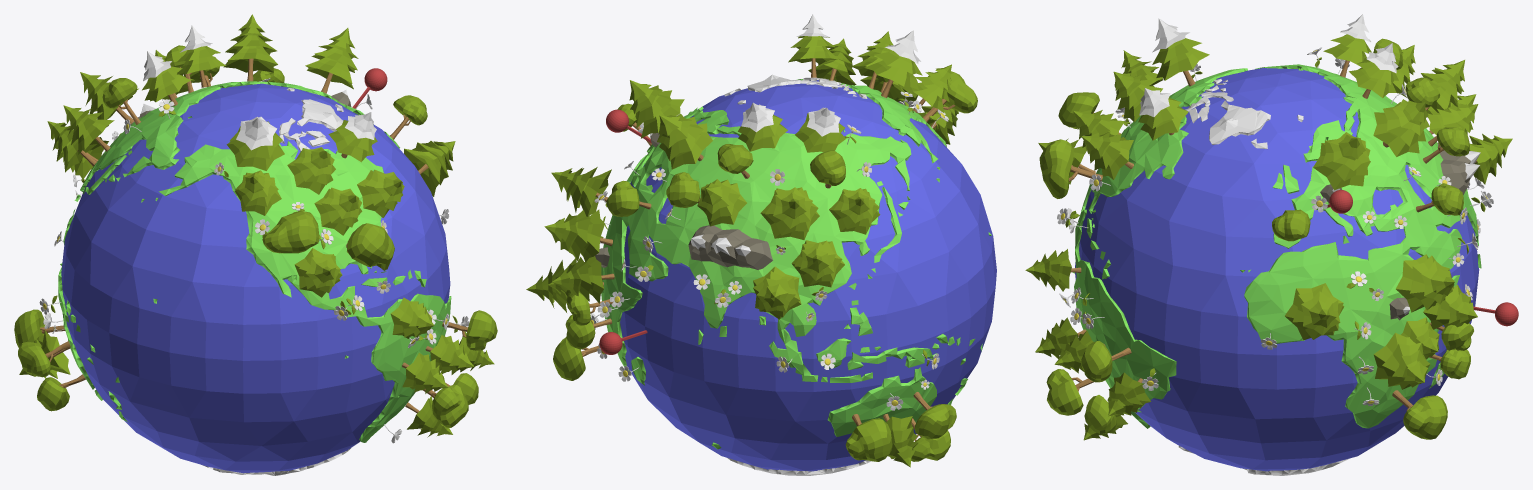
Rendered from planet_with_markers.glb.
The picture shows the model from 3 angles, left to right: view 1: azimuth 30°, elevation 25°; view 2: azimuth 150°, elevation 25°; view 3: azimuth 270°, elevation 25°; orthographic projection. The views are drawn at different scales.
Parts seen in each view (by area): view 1: Sphere, Globo_Sphere.003, Cylinder.002, Cylinder.023, Cylinder.003, Cylinder.013, Cylinder.008, Cylinder.015, Cylinder.076, Cylinder.006, Cylinder.010, Cylinder.004 (+20 smaller); view 2: Sphere, Globo_Sphere.003, Cylinder.048, Cylinder.025, Cylinder.023, Cylinder.016, Cylinder.002, Cylinder.013, Cylinder.090, Cylinder.026, Cylinder.027, Cylinder.015 (+24 smaller); view 3: Sphere, Globo_Sphere.003, Cylinder.023, Cylinder.015, Cylinder.013, Cylinder.016, Cylinder.018, Cylinder.002, Cylinder.008, Cylinder.076, Cylinder.019, Cylinder.075 (+27 smaller).
Boxes of the visible parts, x1,y1,x2,y2 form: Sphere: (61, 83, 450, 473); Globo_Sphere.003: (58, 81, 451, 475); Cylinder.002: (226, 116, 284, 170); Cylinder.023: (223, 14, 277, 81); Cylinder.003: (262, 210, 319, 253); Cylinder.013: (305, 28, 358, 93); Cylinder.008: (346, 223, 394, 270); Cylinder.015: (404, 141, 455, 196); Cylinder.076: (328, 112, 377, 162); Cylinder.006: (314, 187, 362, 235); Cylinder.010: (294, 248, 342, 297); Cylinder.004: (287, 147, 335, 194); Sphere: (620, 80, 996, 471); Globo_Sphere.003: (601, 74, 991, 475); Cylinder.048: (688, 225, 772, 269); Cylinder.025: (760, 187, 819, 239); Cylinder.023: (657, 113, 712, 169); Cylinder.016: (544, 209, 612, 261); Cylinder.002: (864, 30, 922, 97); Cylinder.013: (629, 80, 684, 138); Cylinder.090: (753, 266, 801, 319); Cylinder.026: (791, 240, 844, 287); Cylinder.027: (845, 414, 892, 461); Cylinder.015: (551, 167, 611, 216); Sphere: (1075, 68, 1479, 471); Globo_Sphere.003: (1072, 64, 1481, 475); Cylinder.023: (1373, 99, 1429, 156); Cylinder.015: (1285, 283, 1344, 340); Cylinder.013: (1313, 132, 1370, 190); Cylinder.016: (1396, 254, 1454, 312); Cylinder.018: (1373, 332, 1430, 389); Cylinder.002: (1152, 18, 1209, 86); Cylinder.008: (1039, 139, 1102, 198); Cylinder.076: (1138, 88, 1188, 140); Cylinder.019: (1392, 390, 1447, 439); Cylinder.075: (1349, 43, 1398, 98).
Bounding box in the file's own units: 7.66 × 7.19 × 7.61.
